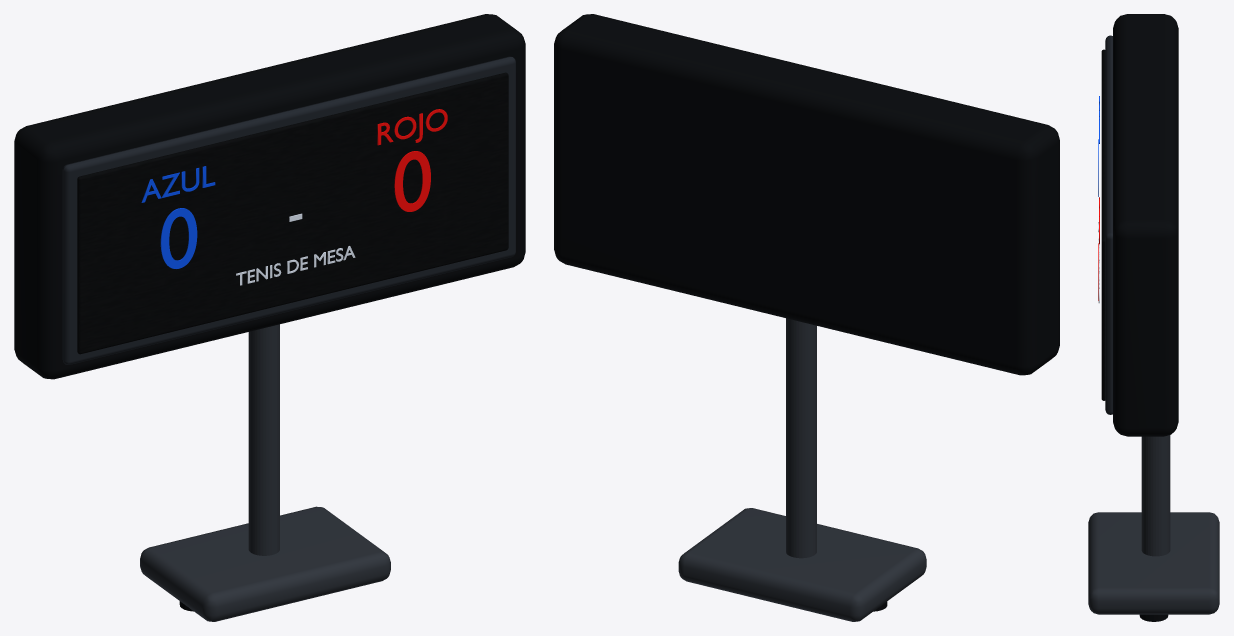
The model's file is marcador.obj.
3 renders of one model, left to right at view 1: azimuth 30°, elevation 25°; view 2: azimuth 150°, elevation 25°; view 3: azimuth 270°, elevation 25°, orthographic. The views are drawn at different scales.
Visible parts, largest first — view 1: Pantalla_Digital, Carcasa_Principal, Base_Soporte, Marco_Pantalla, Poste_Soporte, Puntaje_Azul, Puntaje_Rojo, Subtitulo, Etiqueta_Rojo, Etiqueta_Azul; view 2: Carcasa_Principal, Base_Soporte, Poste_Soporte; view 3: Carcasa_Principal, Base_Soporte, Poste_Soporte, Marco_Pantalla, Pantalla_Digital.
Boxes of the visible parts, x1=… form: Pantalla_Digital: x1=77, y1=72, x2=508, y2=354; Carcasa_Principal: x1=14, y1=14, x2=525, y2=379; Base_Soporte: x1=140, y1=506, x2=390, y2=621; Marco_Pantalla: x1=62, y1=56, x2=515, y2=364; Poste_Soporte: x1=248, y1=324, x2=279, y2=555; Puntaje_Azul: x1=160, y1=208, x2=197, y2=269; Puntaje_Rojo: x1=394, y1=151, x2=430, y2=211; Subtitulo: x1=236, y1=246, x2=355, y2=285; Etiqueta_Rojo: x1=377, y1=109, x2=447, y2=145; Etiqueta_Azul: x1=141, y1=166, x2=215, y2=202; Carcasa_Principal: x1=554, y1=14, x2=1059, y2=375; Base_Soporte: x1=678, y1=508, x2=926, y2=621; Poste_Soporte: x1=786, y1=318, x2=816, y2=558; Carcasa_Principal: x1=1113, y1=14, x2=1178, y2=436; Base_Soporte: x1=1088, y1=512, x2=1219, y2=614; Poste_Soporte: x1=1141, y1=435, x2=1170, y2=556; Marco_Pantalla: x1=1105, y1=35, x2=1112, y2=414; Pantalla_Digital: x1=1101, y1=49, x2=1105, y2=400.
Size of the model in its own units: 1.25 by 1.26 by 0.32.
Materials: 7 (1 with a texture image).
